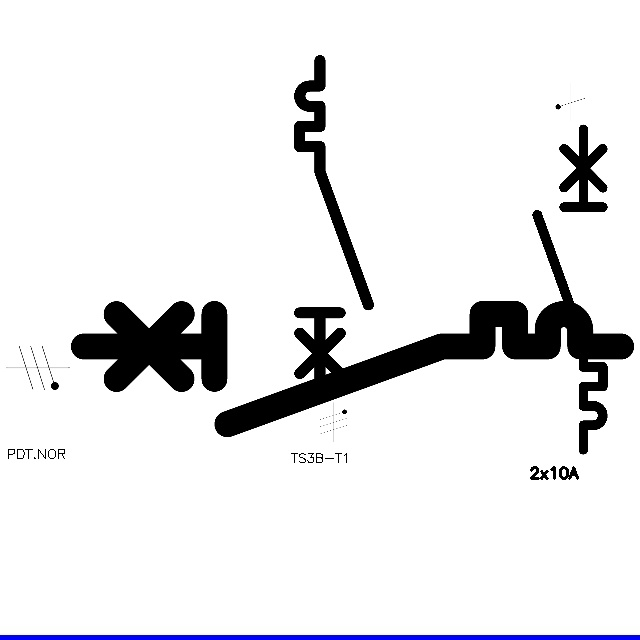interruptor_termomagnetico: (69, 300, 634, 438), (291, 52, 376, 402), (529, 121, 611, 458)
